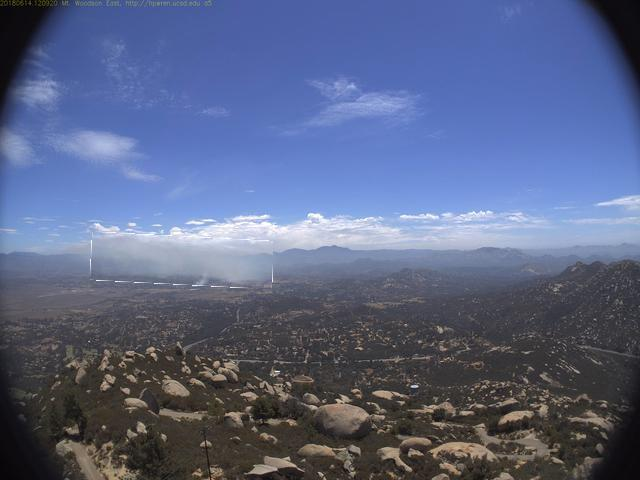smoke: (92, 236, 275, 288)
